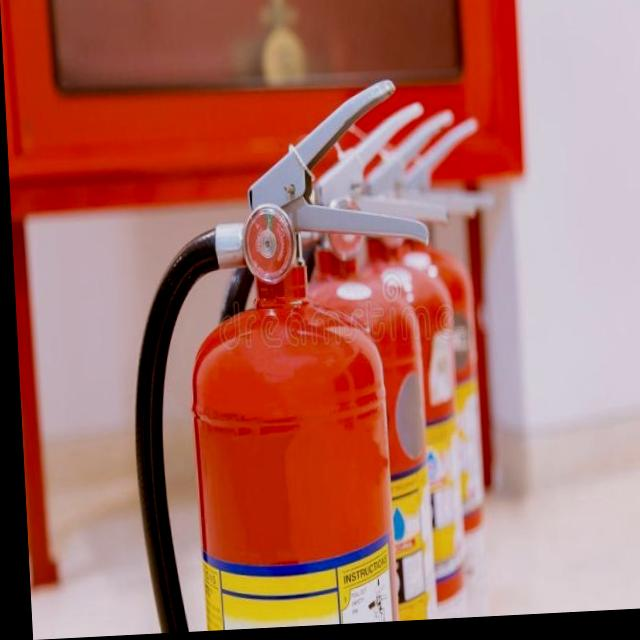FireExtinguisher: (107, 73, 445, 635)
